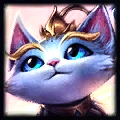Yuumi: (4, 5, 115, 116)
